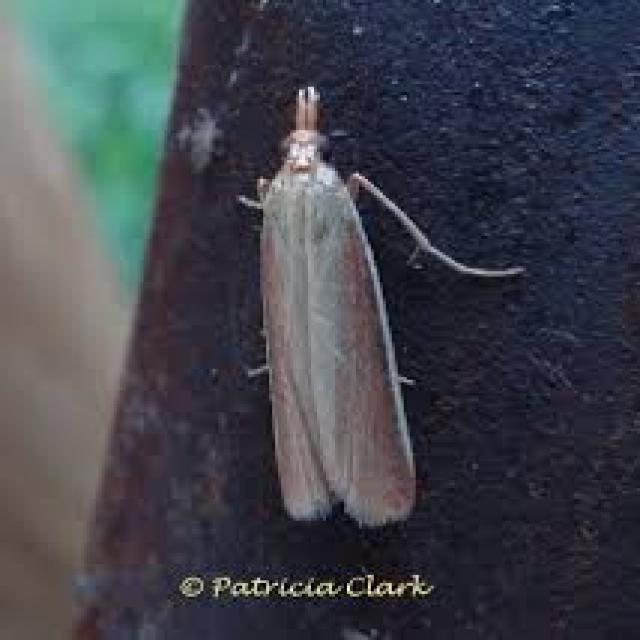yellow-stem-borer: (220, 60, 485, 557)
